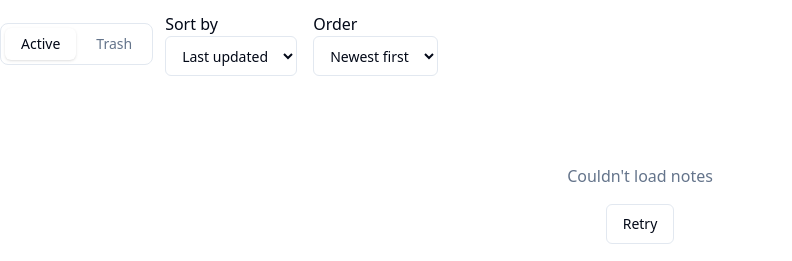
Test: notes-list-ui › list › shows error state with retry
The width and height of the screenshot is (792, 261).
Check: the text "Couldn't load notes" is shown, box [567,164,713,188]
Click the button "Retry" at (640, 224), box [606,204,674,244]
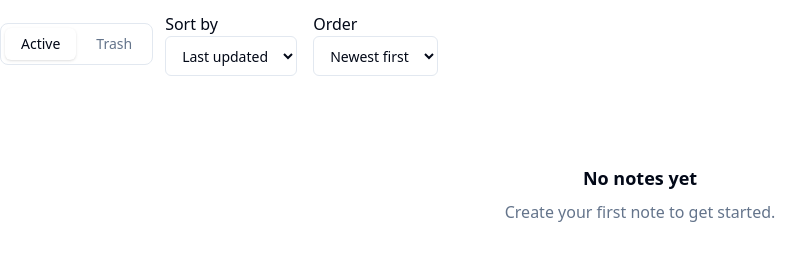
Check: the heading "No notes yet" is shown, box [583,164,697,192]
